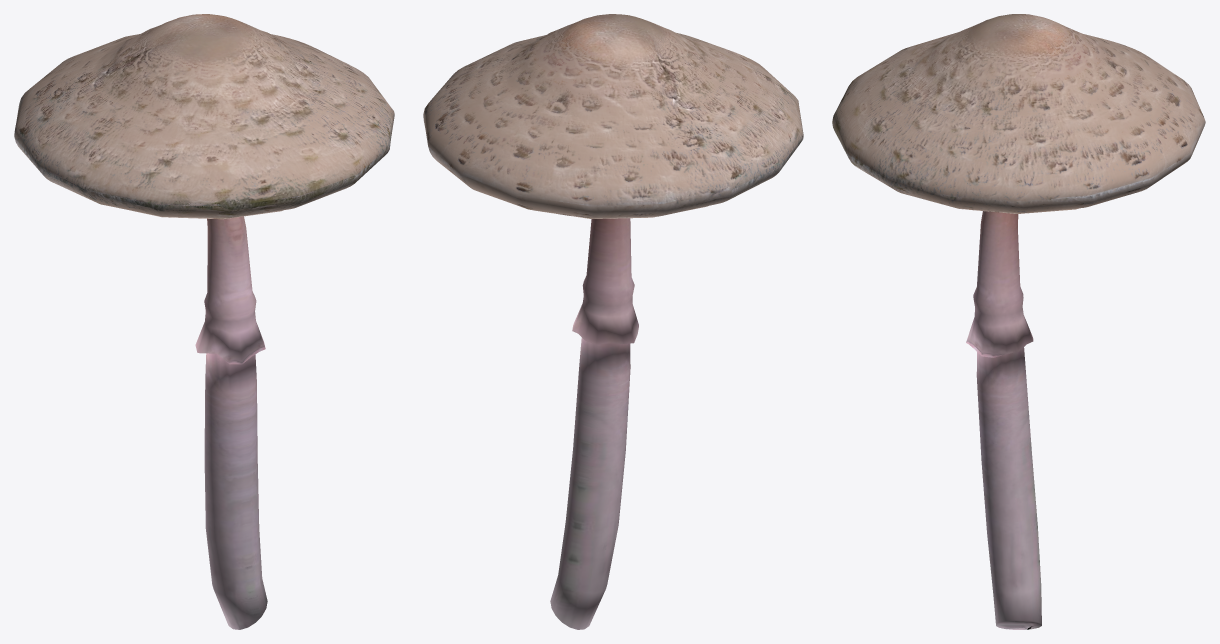
Rendered from mushroom_767a395d.glb.
The picture shows the model from 3 angles, left to right: view 1: azimuth 30°, elevation 25°; view 2: azimuth 150°, elevation 25°; view 3: azimuth 270°, elevation 25°; orthographic projection. The views are drawn at different scales.
Visible parts, largest first — view 1: Object_2; view 2: Object_2; view 3: Object_2.
Boxes of the visible parts, left/top/right/bottom form: Object_2: left=14, top=14, right=394, bottom=629; Object_2: left=423, top=14, right=803, bottom=629; Object_2: left=832, top=14, right=1205, bottom=629.
Size of the model in its own units: 5.68 by 9.95 by 5.68.
Materials: 1 (1 with a texture image).
